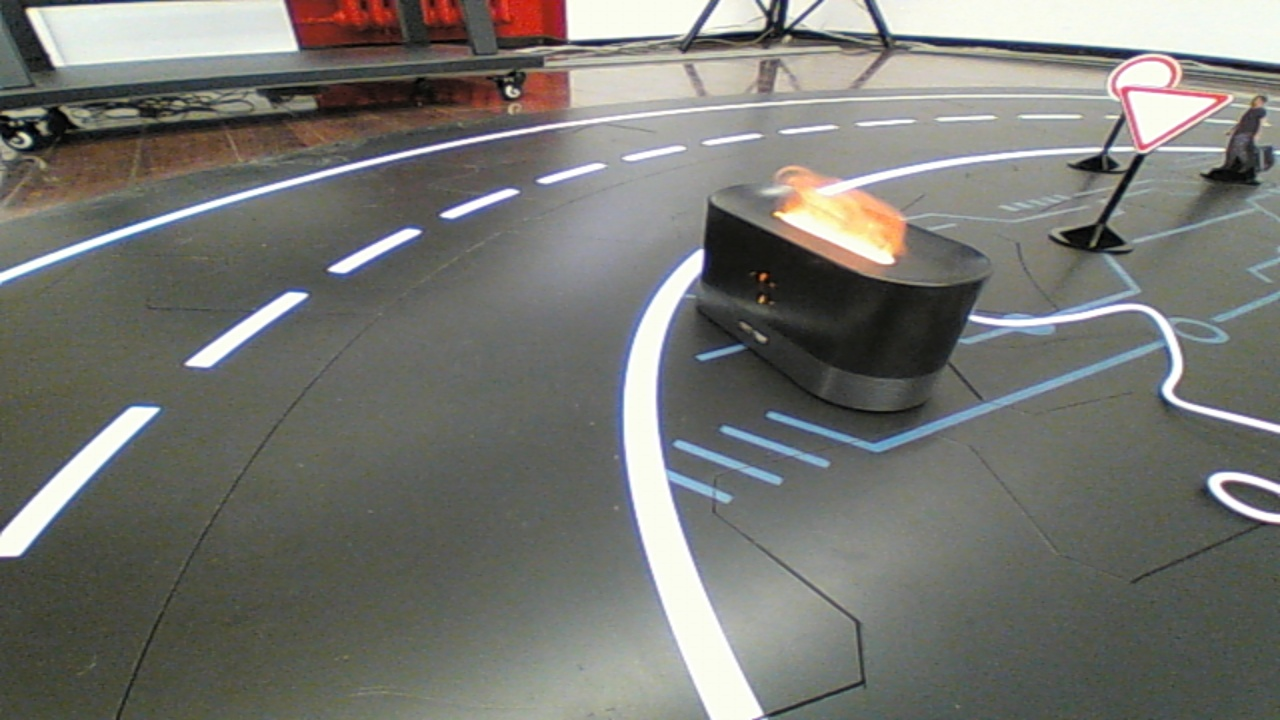Movement prohibition: (689, 165, 1004, 422)
